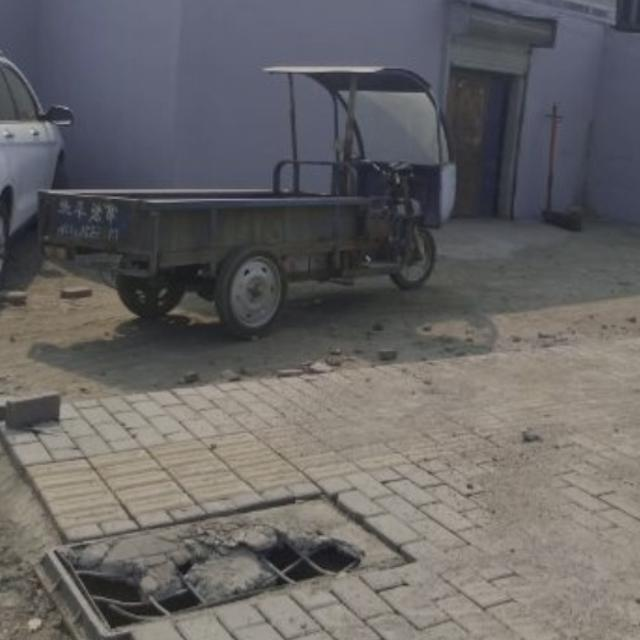broke: (38, 489, 417, 640)
